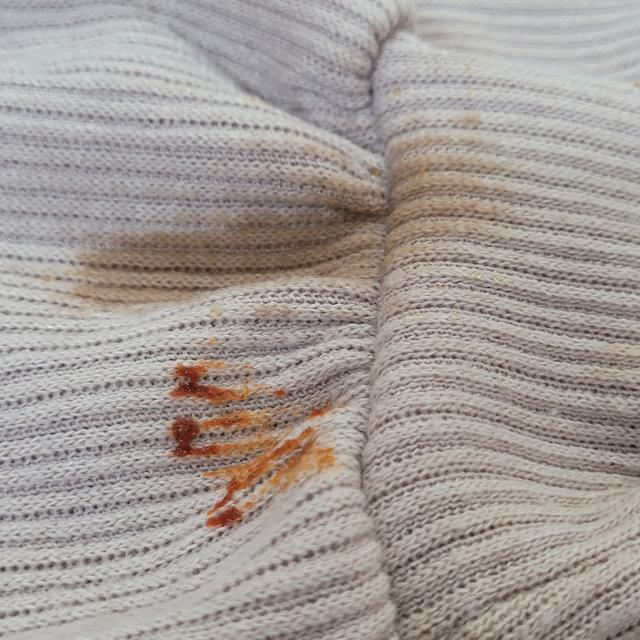Stain: (55, 127, 516, 316), (153, 355, 350, 539)
seam: (347, 0, 423, 640)
